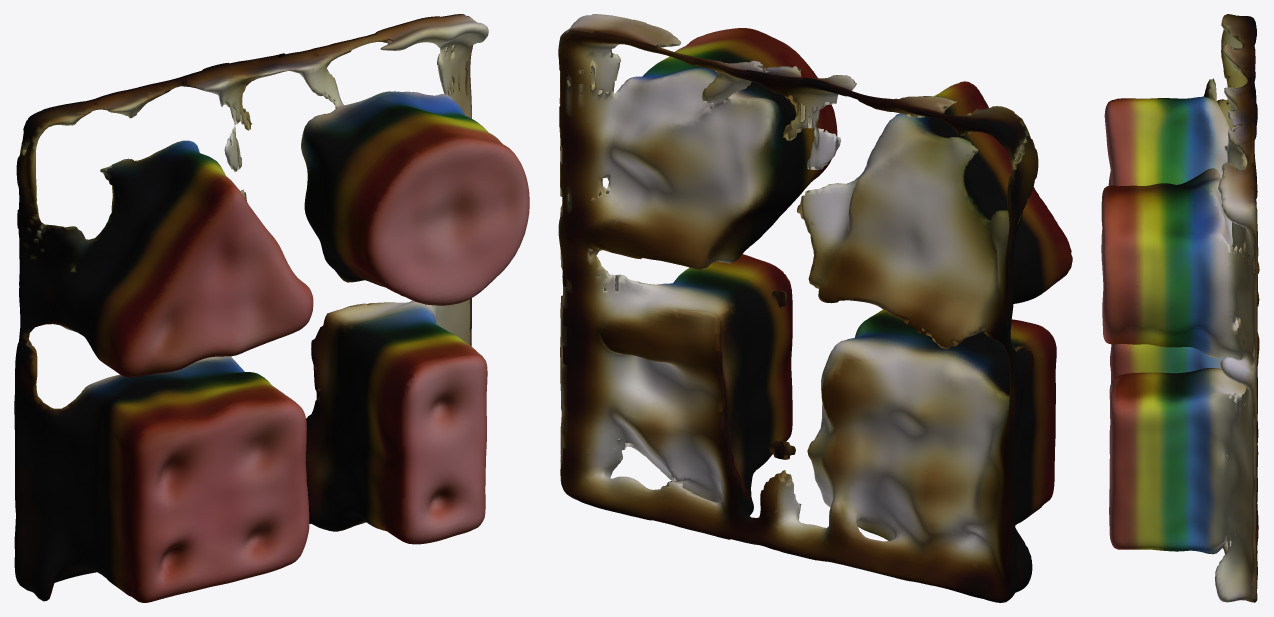
File: sorting_board.glb
The picture shows the model from 3 angles, left to right: view 1: azimuth 30°, elevation 25°; view 2: azimuth 150°, elevation 25°; view 3: azimuth 270°, elevation 25°; orthographic projection. The views are drawn at different scales.
Bounding box in the file's own units: 0.9988 × 0.9889 × 0.3422.
